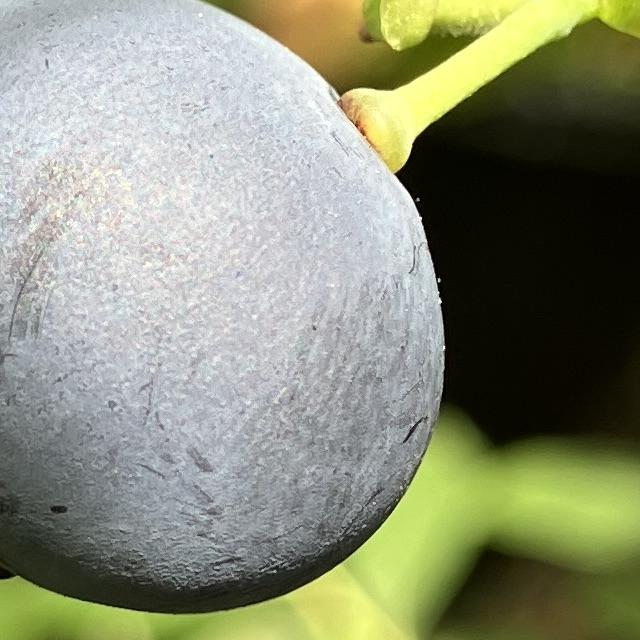Blueberries: (0, 0, 449, 615)
